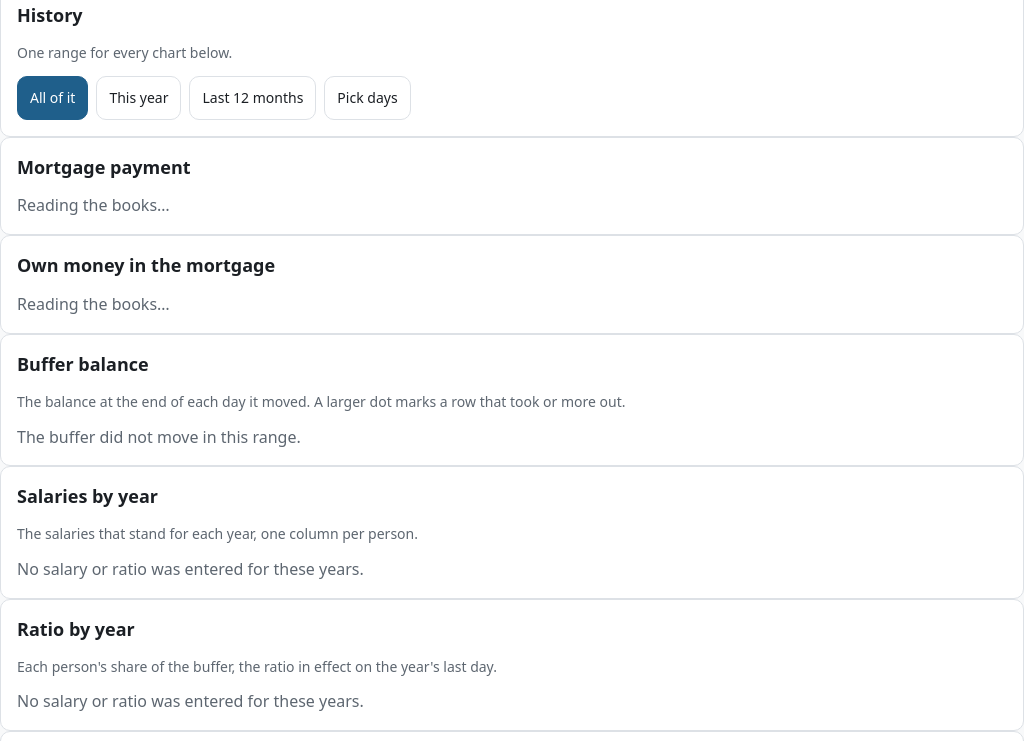
Scenario: stats of books ended, over a range wholly after the close, draw no payment card and neither empty message
Click the button "Pick days".
click(368, 98)  # box x1=324 y1=76 x2=411 y2=120
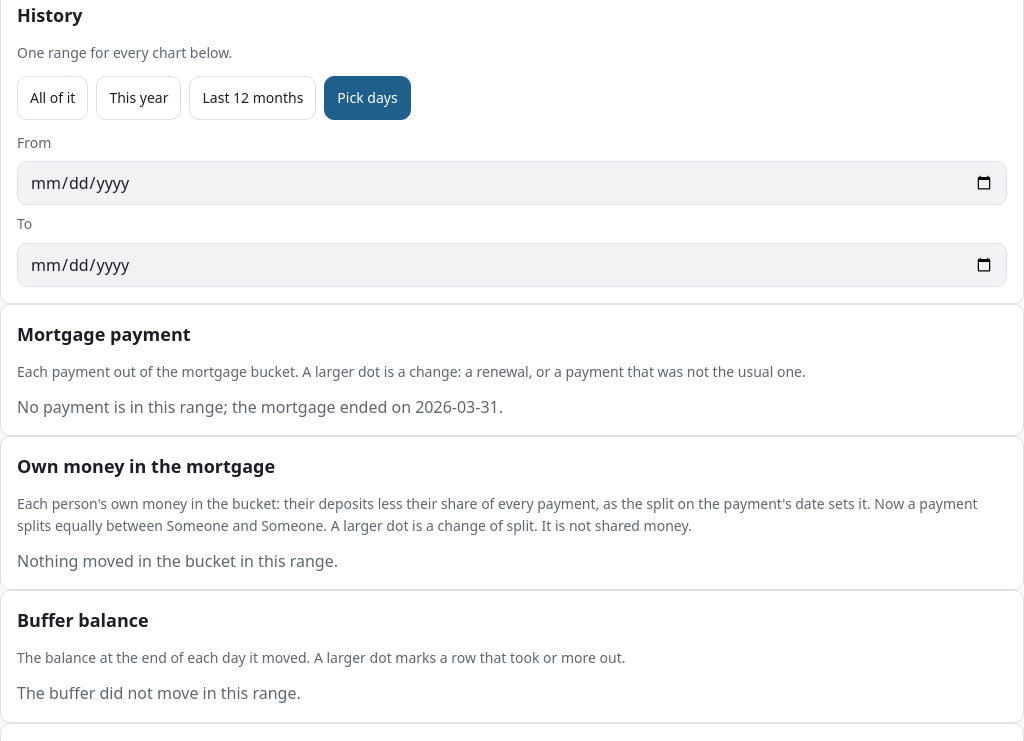
Type "2026-05-01" into the date field labelled "From".
click(512, 183); type("2026-05-01")  # box x1=17 y1=161 x2=1007 y2=205
(page scrolled)
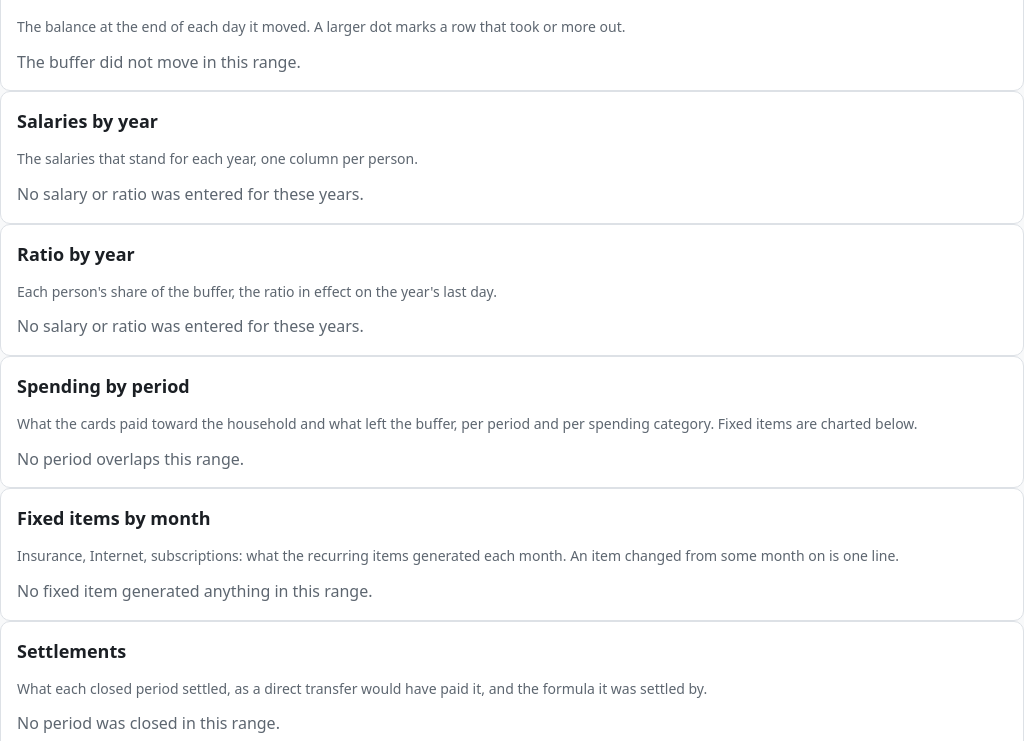
expect the heading "Settlements" is shown: met, box x1=17 y1=639 x2=126 y2=663
expect the heading "Mortgage payment" is gone: met
expect the heading "Own money in the mortgage" is gone: met
